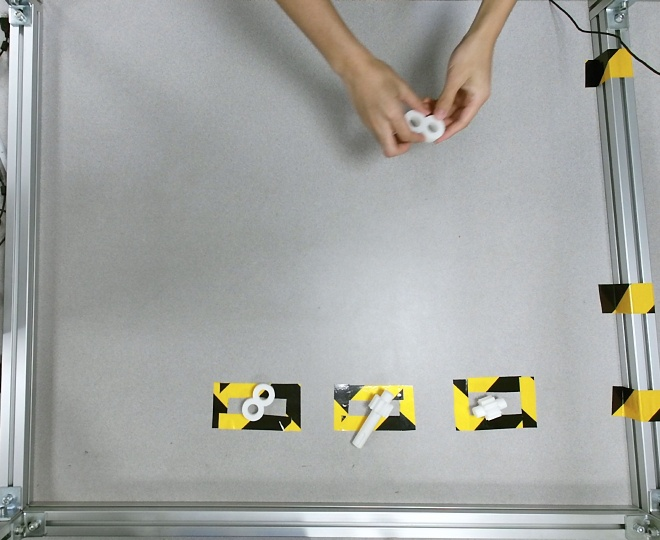stage_1: (404, 108, 445, 142)
